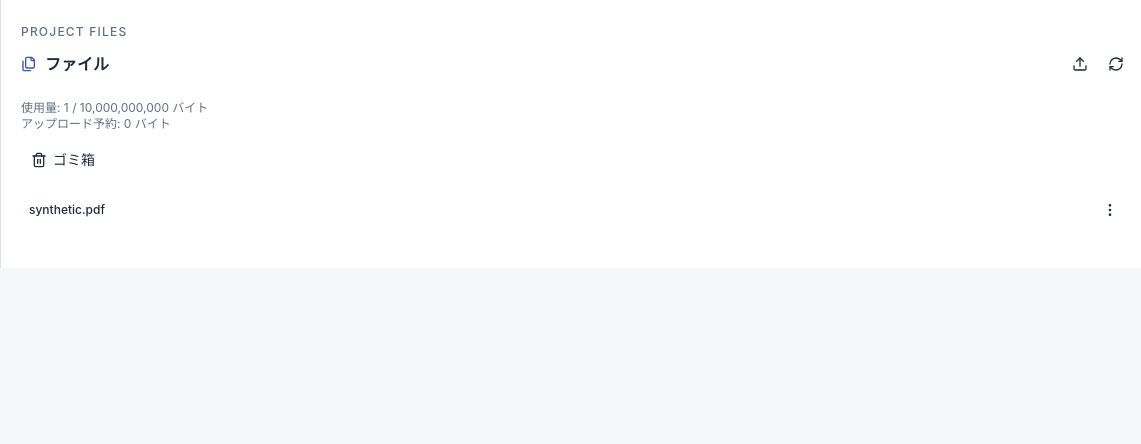
Test: TEST-CJU-010 retains original menu operations for disabled, unsupported and oversized sources and accepts the exact size boundary
Later steps or results of the test are not shown.
Click the button named "ファイル操作: synthetic.pdf" at (1110, 210), box x1=1096 y1=196 x2=1124 y2=224
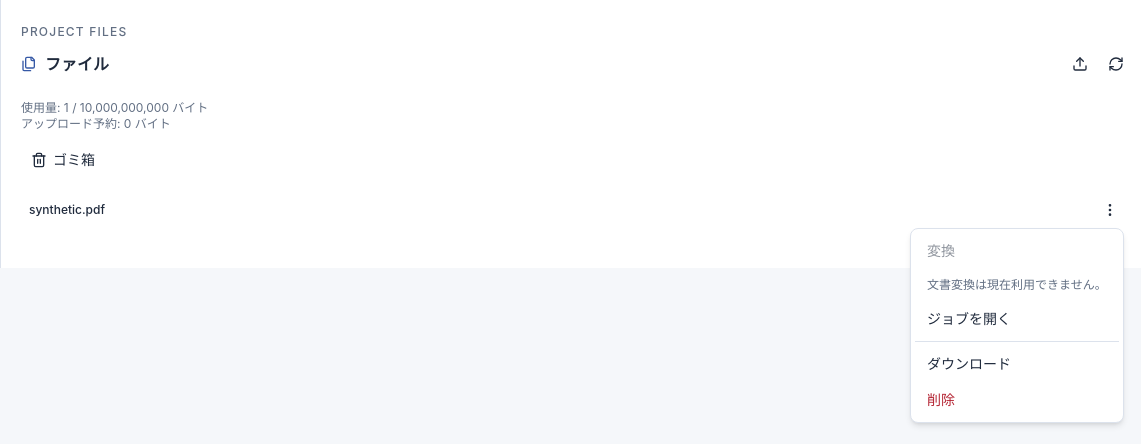
Check: the menu item "ジョブを開く" is shown, box x1=927 y1=310 x2=1011 y2=327
Check: the text "文書変換は現在利用できません。" is shown, box x1=927 y1=277 x2=1107 y2=292
